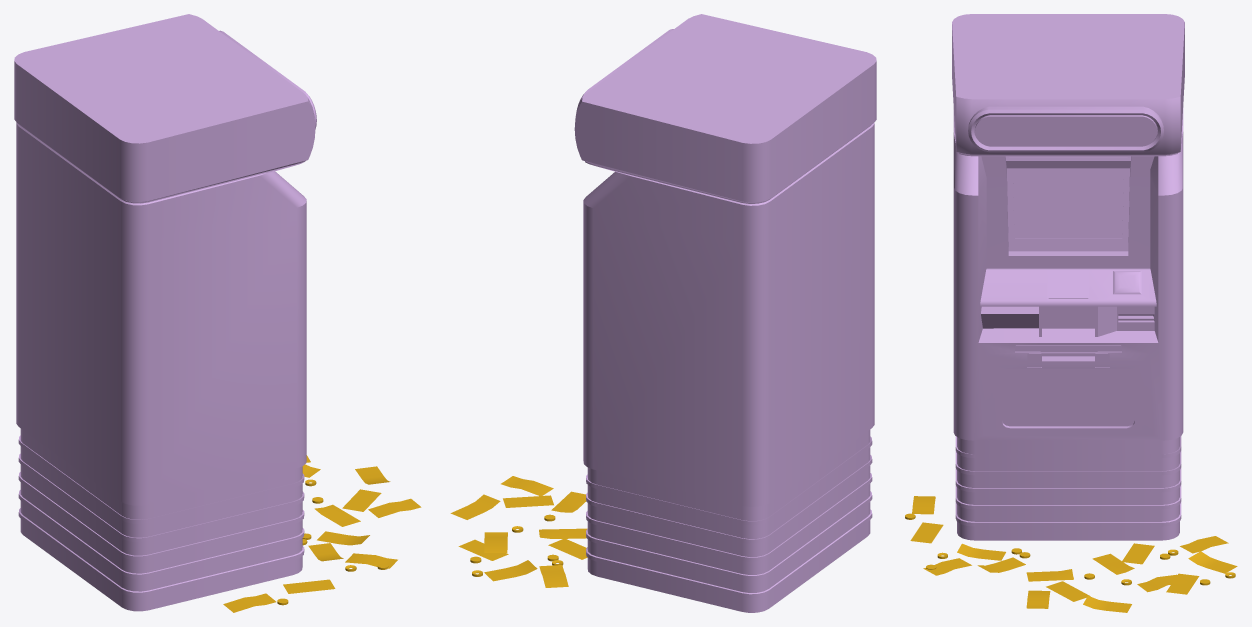
Rendered from atm_st.fbx.
3 views of the same model, side by side, from view 1: azimuth 30°, elevation 25°; view 2: azimuth 150°, elevation 25°; view 3: azimuth 270°, elevation 25° (orthographic). The views are drawn at different scales.
Parts seen in each view (by area): view 1: atm, cash; view 2: atm, cash; view 3: atm, cash.
Part boxes in pixels (left/top/right/bottom): atm: left=14, top=14, right=316, bottom=611; cash: left=223, top=455, right=421, bottom=612; atm: left=574, top=14, right=876, bottom=612; cash: left=450, top=476, right=587, bottom=587; atm: left=952, top=14, right=1184, bottom=540; cash: left=905, top=496, right=1237, bottom=612.
Size of the model in its own units: 129 by 170 by 116.
